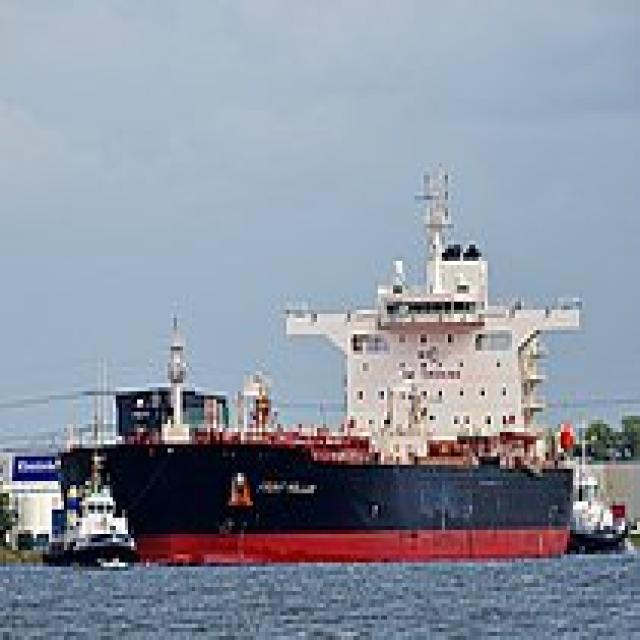Tanker: (91, 159, 579, 567)
